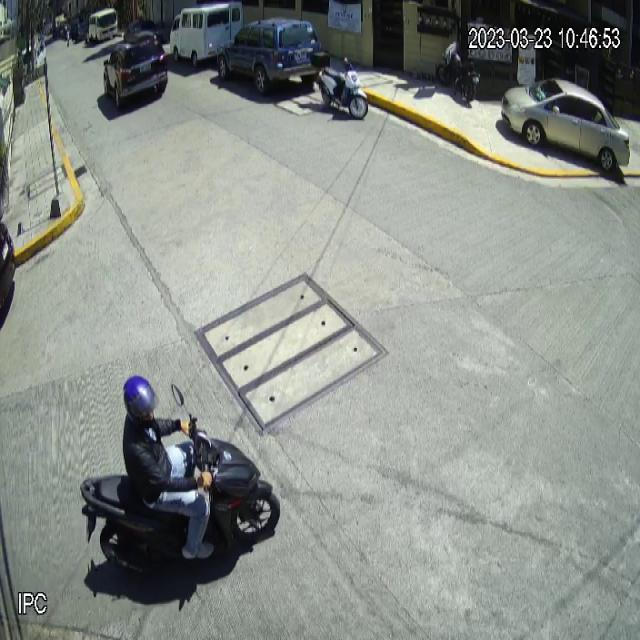Car: (499, 75, 632, 172), (216, 18, 320, 97)
Motorcycle: (77, 382, 282, 587), (310, 51, 369, 120)
Van: (169, 0, 244, 69)
